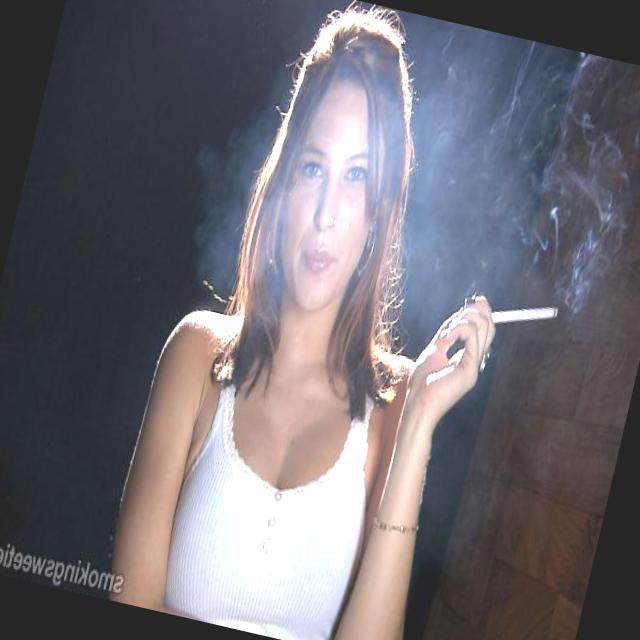smoke: (459, 267, 576, 364)
